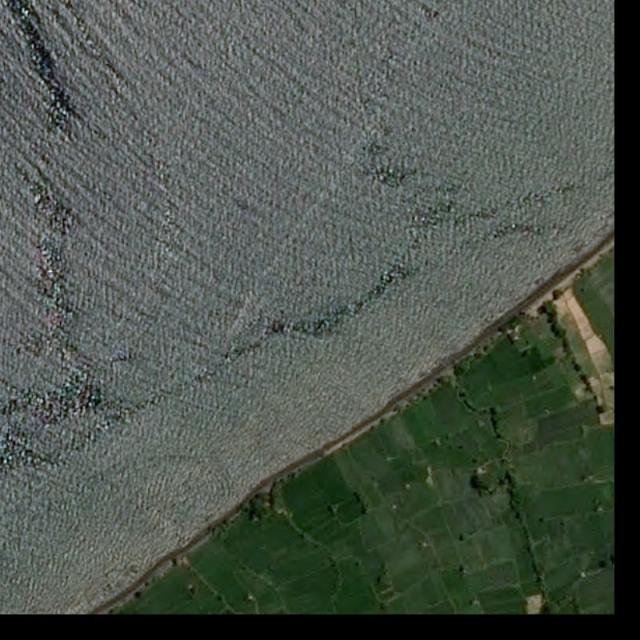ship: (222, 344, 230, 352)
